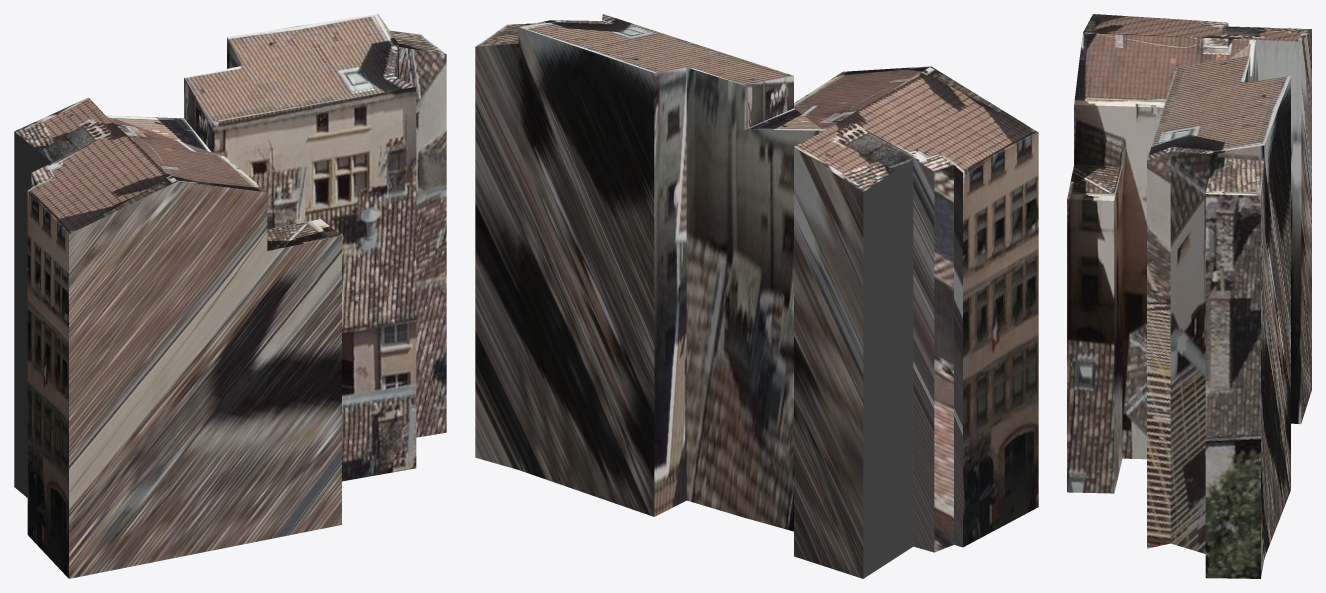
3 renders of one model, left to right at view 1: azimuth 30°, elevation 25°; view 2: azimuth 150°, elevation 25°; view 3: azimuth 270°, elevation 25°, orthographic. The views are drawn at different scales.
Parts seen in each view (by area): view 1: Z_UP; view 2: Z_UP; view 3: Z_UP.
Boxes of the visible parts, <box> form: Z_UP: <box>14,14,446,578</box>; Z_UP: <box>475,14,1038,578</box>; Z_UP: <box>1067,14,1311,578</box>.
Size of the model in its own units: 23.21 by 20.82 by 11.16.
2 materials, 1 textured.
